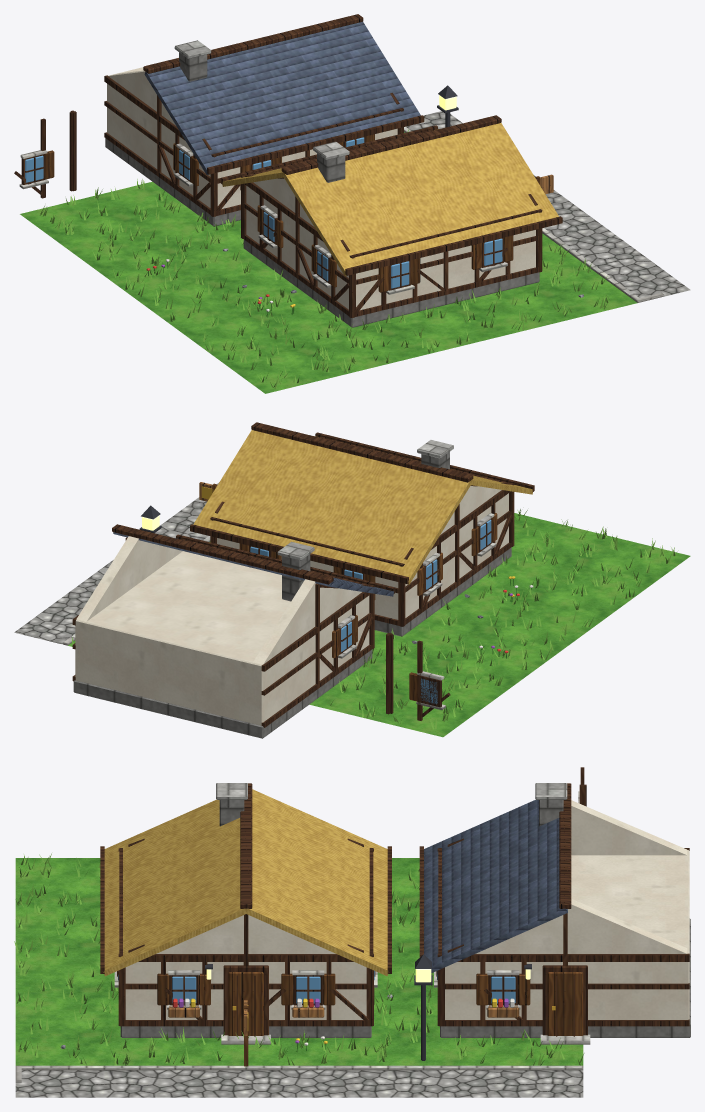
File: chunk_5_13.glb
3 views of the same model, one above another, from view 1: azimuth 30°, elevation 25°; view 2: azimuth 150°, elevation 25°; view 3: azimuth 270°, elevation 25° (orthographic). The views are drawn at different scales.
Visible parts, largest first — view 1: chunk_5_13; view 2: chunk_5_13; view 3: chunk_5_13.
Boxes of the visible parts, x1=… form: chunk_5_13: x1=14, y1=14, x2=690, y2=393; chunk_5_13: x1=14, y1=422, x2=690, y2=738; chunk_5_13: x1=14, y1=767, x2=690, y2=1097.
Bounding box in the file's own units: 16.22 × 4.99 × 19.09.
Materials: 23 (14 with a texture image).
